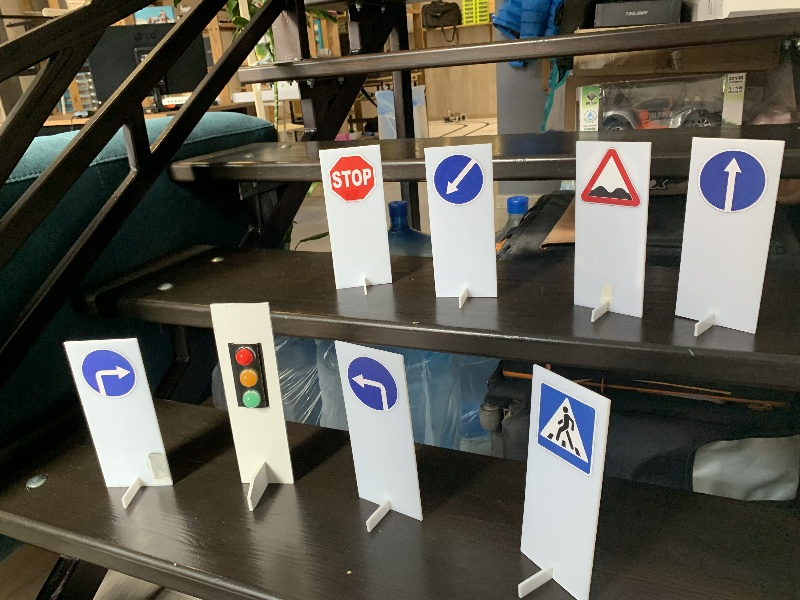Left: (345, 354, 400, 409)
Nerov: (582, 148, 644, 209)
Right: (78, 346, 135, 399)
Stop: (328, 154, 377, 203)
forw: (698, 146, 767, 215)
pesh: (531, 381, 595, 478)
prep: (433, 154, 486, 204)
